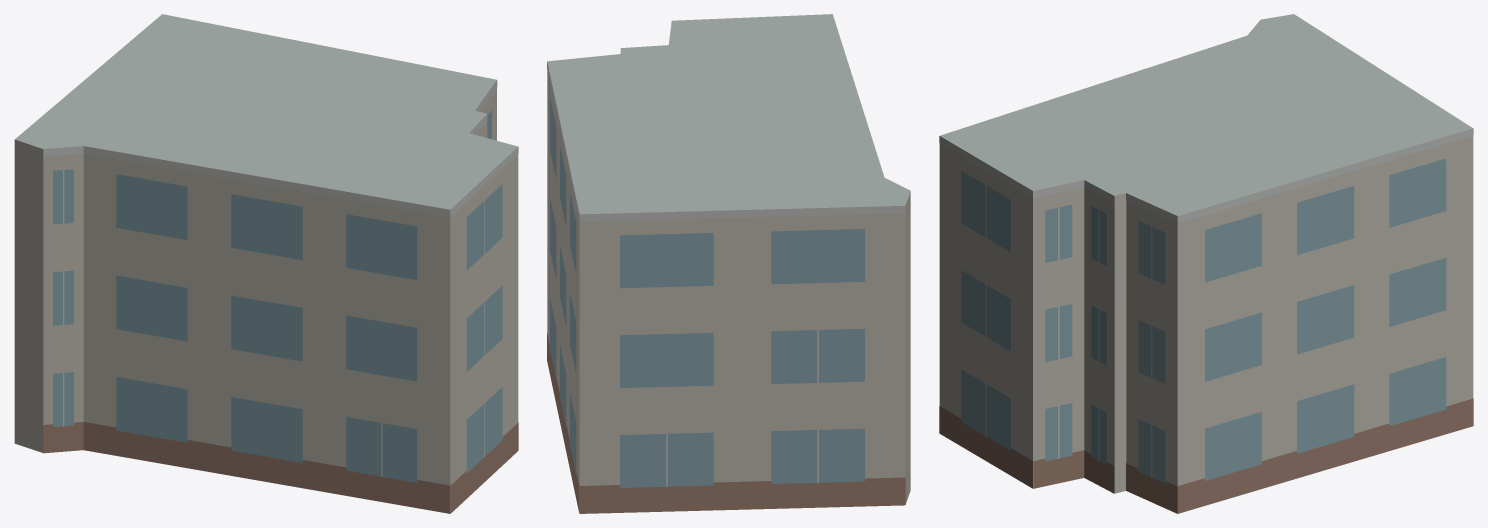
Rendered from survey-upis-32533494.glb.
The picture shows the model from 3 angles, left to right: view 1: azimuth 30°, elevation 25°; view 2: azimuth 150°, elevation 25°; view 3: azimuth 270°, elevation 25°; orthographic projection. The views are drawn at different scales.
Visible parts, largest first — view 1: survey-upis-32533494.tmp; view 2: survey-upis-32533494.tmp; view 3: survey-upis-32533494.tmp.
Boxes of the visible parts, x1,y1,x2,y2 form: survey-upis-32533494.tmp: [14, 14, 518, 513]; survey-upis-32533494.tmp: [547, 14, 910, 513]; survey-upis-32533494.tmp: [939, 14, 1473, 513].
Bounding box in the file's own units: 14.28 × 9.8 × 15.93.
